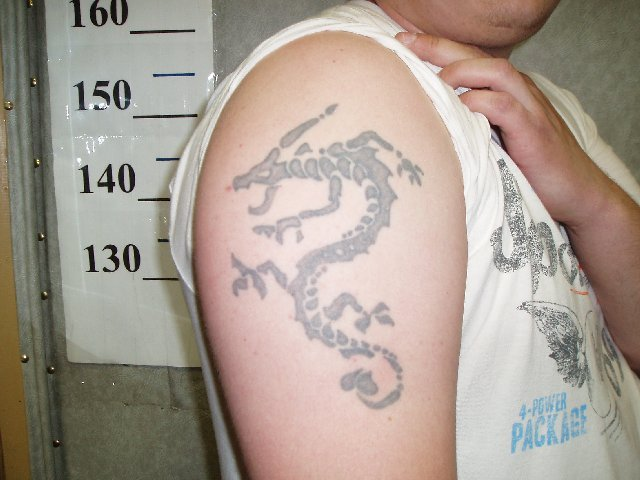tatu6_drakon: (216, 97, 433, 451)
